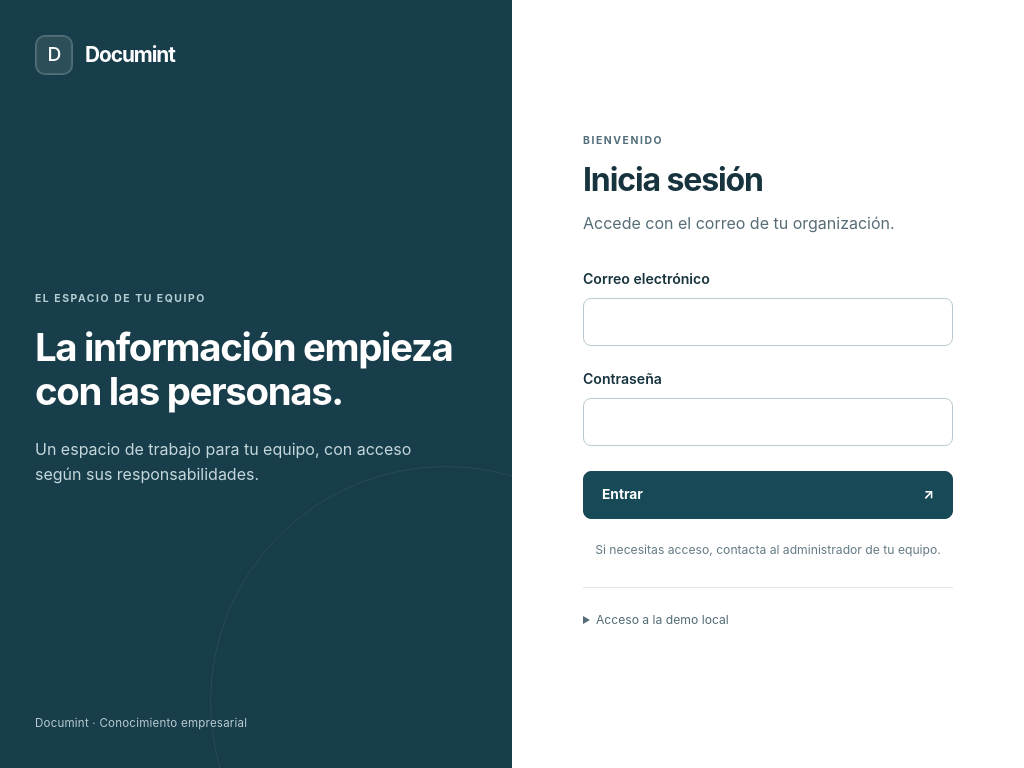
Test: shows invalid credentials without losing the email or leaving submit disabled
Expected: the heading "Inicia sesión" is shown, [583, 160, 763, 199]
Step 1. Type "elena@documind.example" into the field labelled "Correo electrónico" → {"x": 768, "y": 322}, box [583, 298, 953, 346]
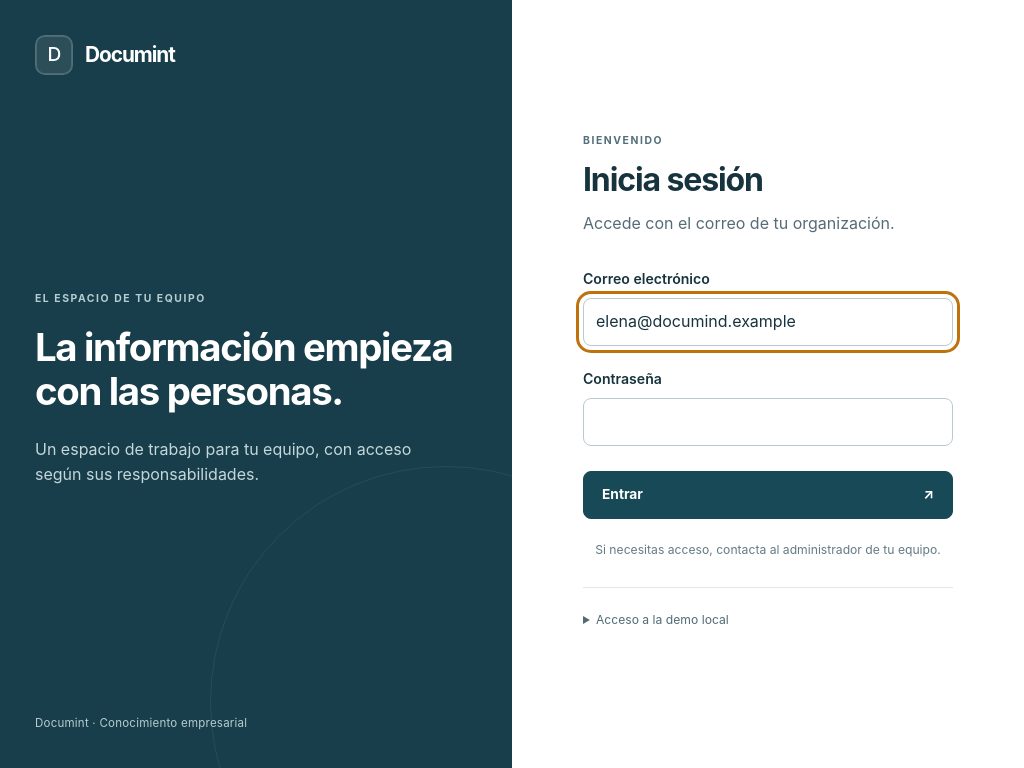
Step 2. Type "wrong-password" into the password field labelled "Contraseña" → {"x": 768, "y": 422}, box [583, 398, 953, 446]
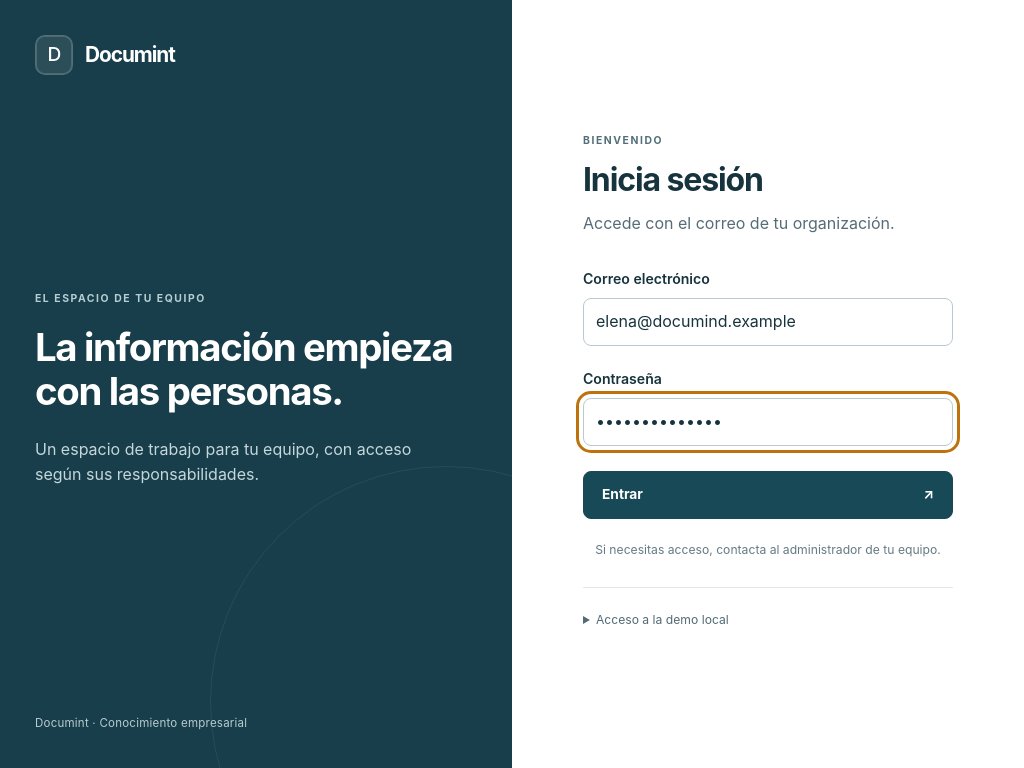
Step 3. Click the button "Entrar ↗" → {"x": 622, "y": 494}, box [583, 471, 953, 519]
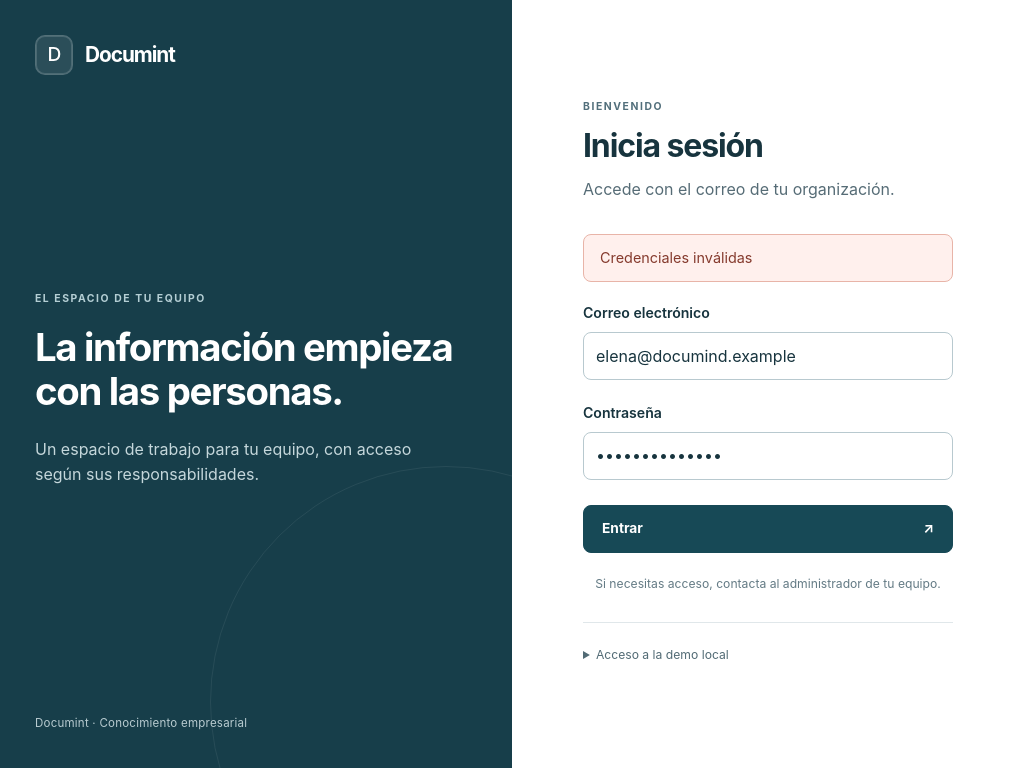
Expected: the button "Entrar ↗" is enabled, [583, 505, 953, 553]
Result: the message reads "Credenciales inválidas" at [600, 249, 752, 266]
